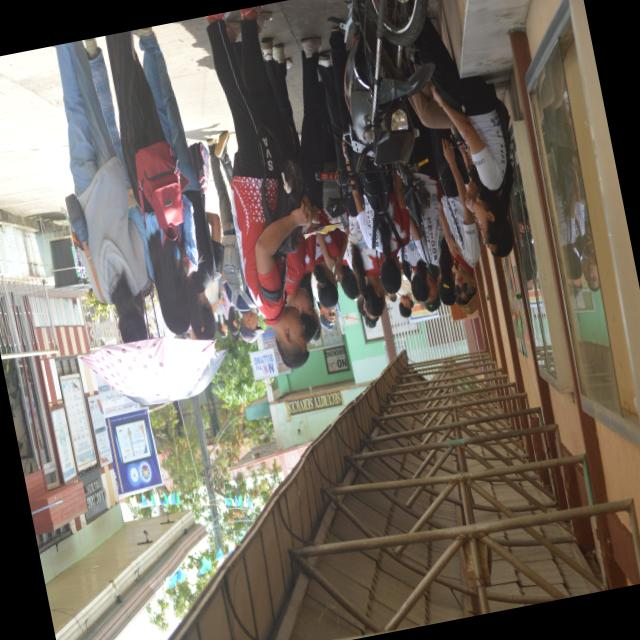person: (206, 6, 312, 367), (105, 31, 197, 333), (55, 42, 146, 341), (136, 27, 223, 339), (415, 18, 511, 243), (405, 101, 455, 304), (430, 128, 479, 313), (351, 169, 408, 292), (298, 37, 327, 223), (344, 193, 385, 316), (206, 130, 235, 245), (408, 81, 454, 133), (400, 236, 428, 301), (310, 273, 335, 330), (205, 281, 227, 337), (423, 264, 440, 311), (396, 278, 411, 317)
